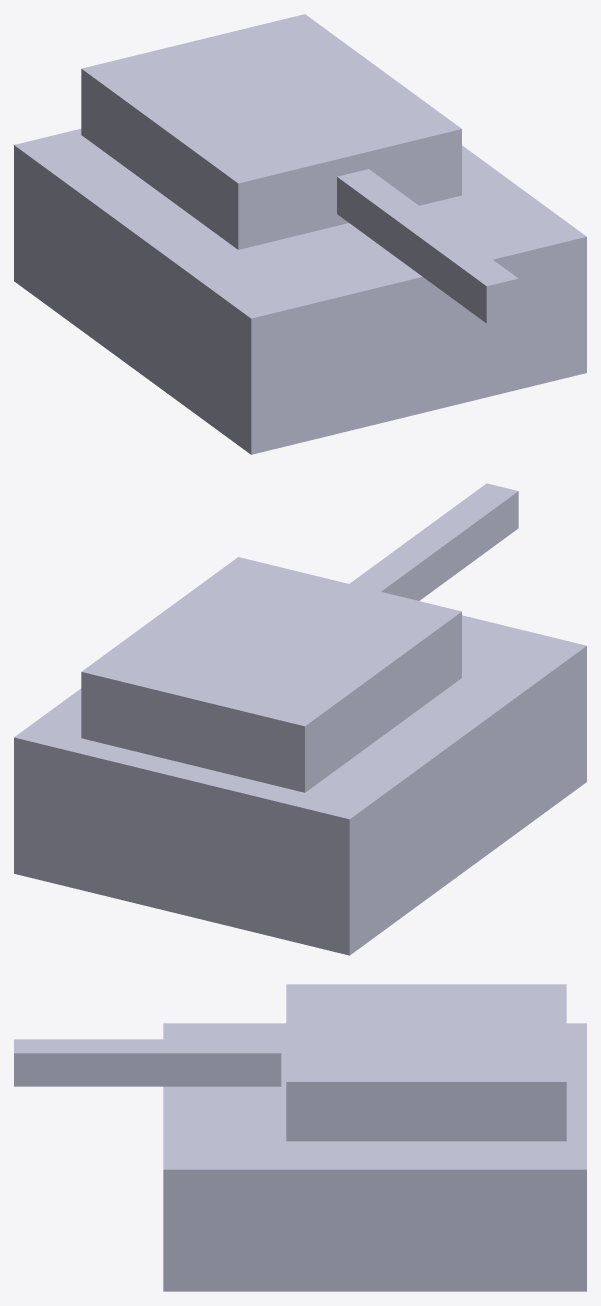
The model's file is TankMaya1_SevrerVersion.fbx.
3 views of the same model, one above another, from view 1: azimuth 30°, elevation 25°; view 2: azimuth 150°, elevation 25°; view 3: azimuth 270°, elevation 25° (orthographic). The views are drawn at different scales.
Visible parts, largest first — view 1: bodyHitbox, turrethitbox, barrelHitbox; view 2: bodyHitbox, turrethitbox, barrelHitbox; view 3: bodyHitbox, turrethitbox, barrelHitbox.
Boxes of the visible parts, x1=… form: bodyHitbox: x1=14, y1=128, x2=586, y2=454; turrethitbox: x1=81, y1=14, x2=461, y2=249; barrelHitbox: x1=337, y1=169, x2=518, y2=323; bodyHitbox: x1=14, y1=615, x2=586, y2=955; turrethitbox: x1=81, y1=557, x2=461, y2=792; barrelHitbox: x1=349, y1=483, x2=518, y2=600; bodyHitbox: x1=163, y1=1023, x2=586, y2=1291; turrethitbox: x1=286, y1=984, x2=566, y2=1141; barrelHitbox: x1=14, y1=1039, x2=281, y2=1086.
Size of the model in its own units: 369 by 218 by 611.
